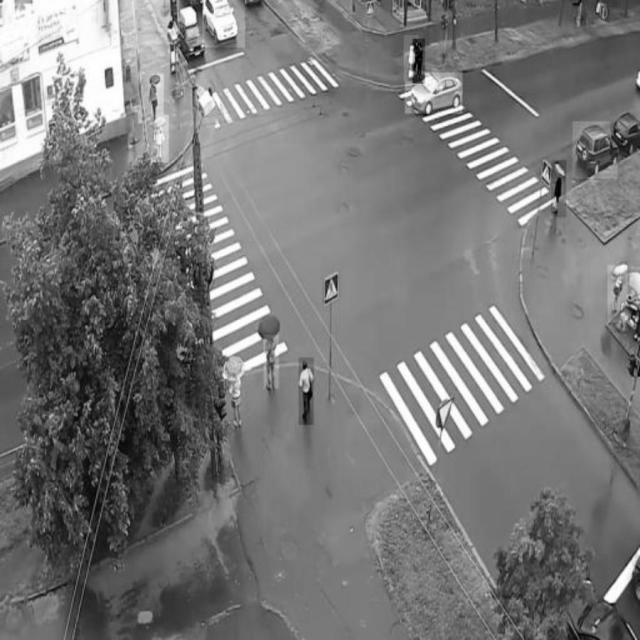person: (224, 363, 244, 427), (607, 266, 627, 323), (299, 358, 314, 425), (552, 160, 567, 217), (152, 114, 169, 162), (264, 335, 279, 389), (404, 36, 419, 82), (413, 39, 425, 84), (152, 74, 164, 115)
vehicle: (573, 123, 618, 180), (406, 73, 463, 114), (203, 0, 245, 47), (610, 114, 640, 160), (178, 5, 203, 52)
